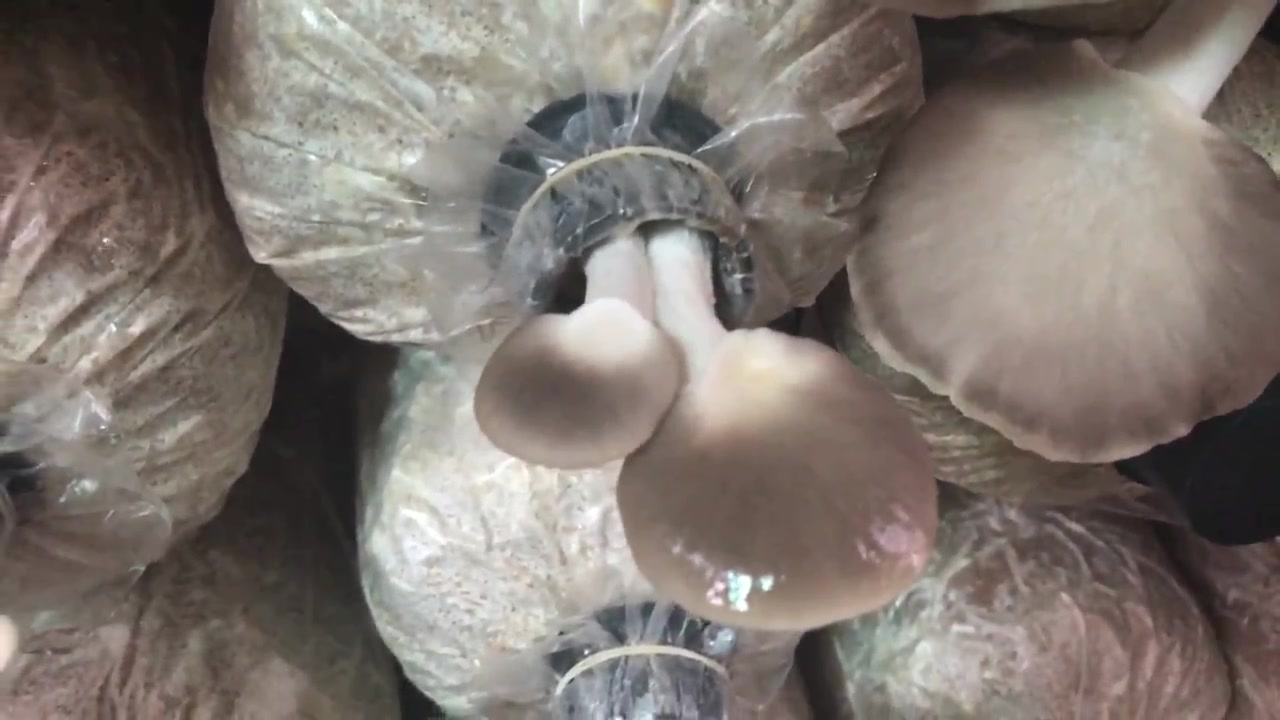nam: (470, 149, 941, 639), (845, 1, 1280, 470)
